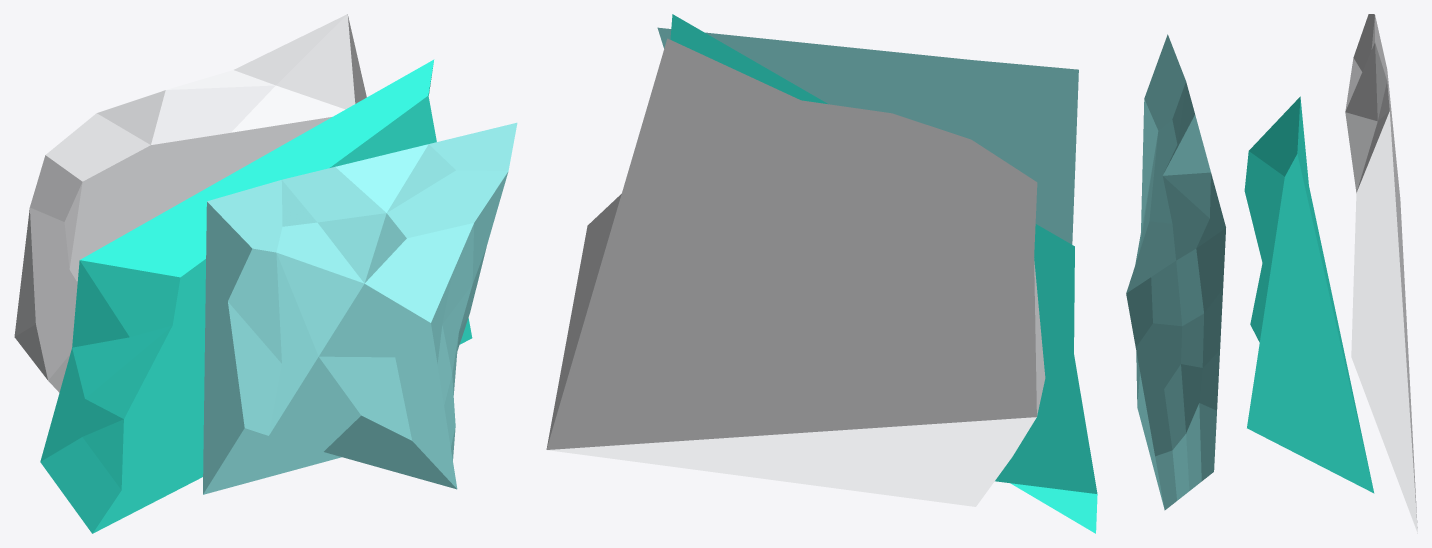
Rendered from heroPlate.glb.
The picture shows the model from 3 angles, left to right: view 1: azimuth 30°, elevation 25°; view 2: azimuth 150°, elevation 25°; view 3: azimuth 270°, elevation 25°; orthographic projection. The views are drawn at different scales.
Visible parts, largest first — view 1: Cube.002, Cube, Cube.001; view 2: Cube.001, Cube.002, Cube; view 3: Cube.002, Cube, Cube.001.
Part boxes in pixels (x1,y1,x2,y2): Cube.002: (203,122,517,494); Cube: (40,59,472,533); Cube.001: (14,14,366,392); Cube.001: (546,38,1045,506); Cube.002: (657,27,1078,244); Cube: (670,14,1097,533); Cube.002: (1126,34,1225,510); Cube: (1244,96,1374,493); Cube.001: (1345,14,1417,533).
Size of the model in its own units: 2.34 by 2.06 by 1.34.
